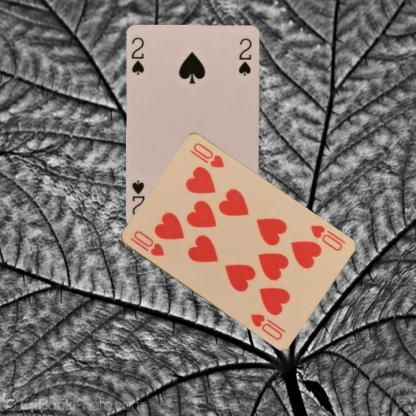10h: (127, 228, 166, 258), (307, 223, 347, 252)
2s: (128, 36, 146, 76)
